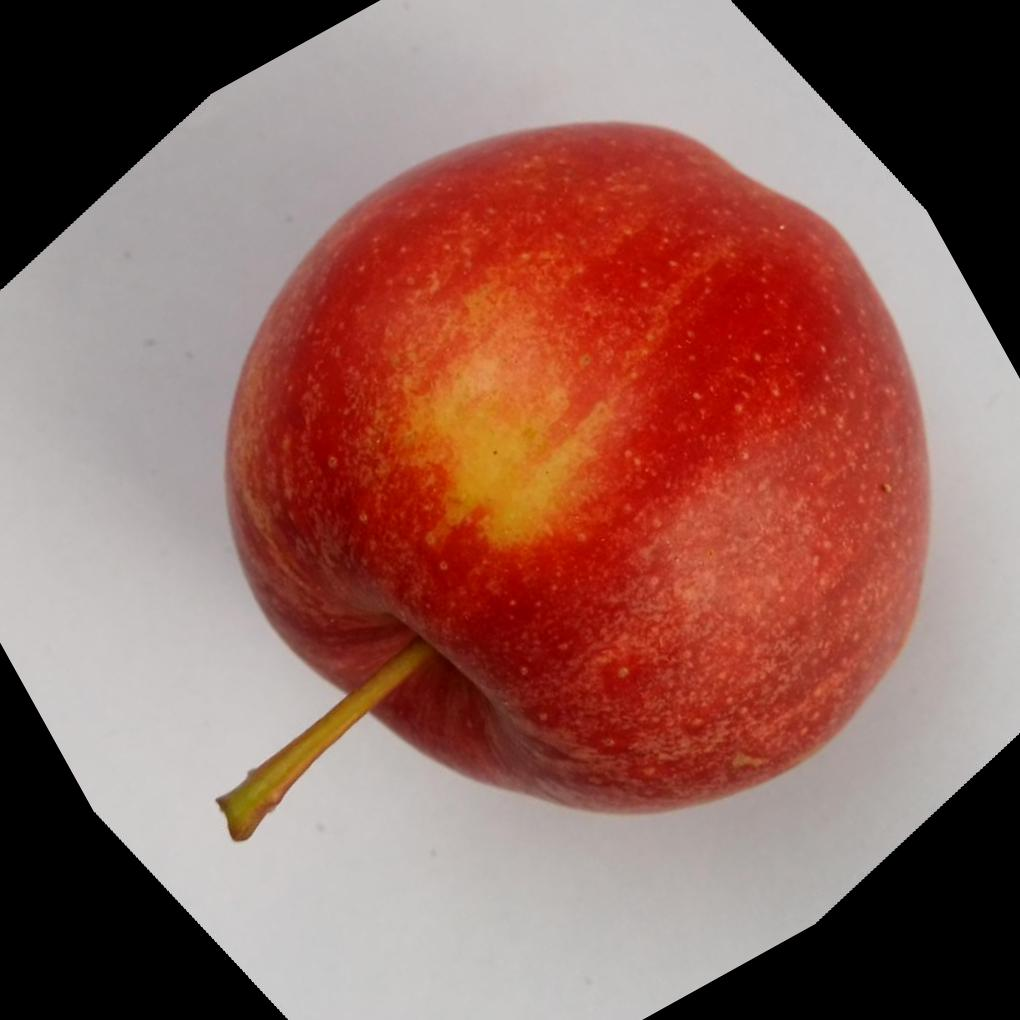FreshGuava: (225, 118, 935, 814)
